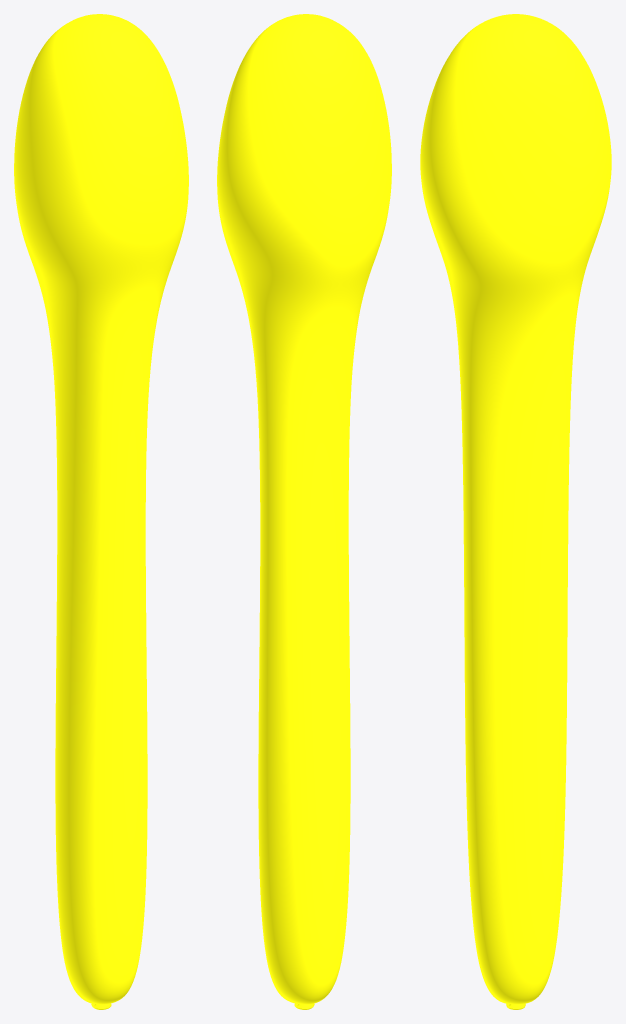
File: asset.glb
The picture shows the model from 3 angles, left to right: view 1: azimuth 30°, elevation 25°; view 2: azimuth 150°, elevation 25°; view 3: azimuth 270°, elevation 25°; orthographic projection.
Parts seen in each view (by area): view 1: jetballoon; view 2: jetballoon; view 3: jetballoon.
Boxes of the visible parts, x1=… form: jetballoon: x1=14, y1=14, x2=188, y2=1009; jetballoon: x1=217, y1=14, x2=391, y2=1009; jetballoon: x1=420, y1=14, x2=611, y2=1009.
Size of the model in its own units: 2.61 by 17.27 by 3.04.
